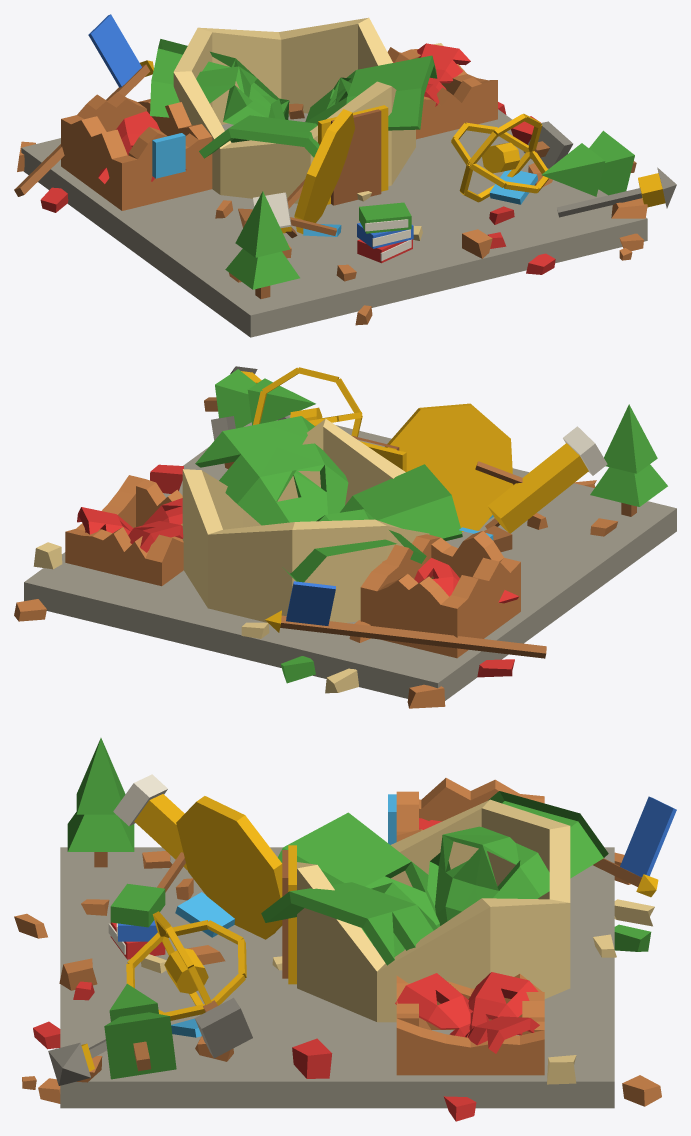
The model's file is observatory_t3_v2_dmg2.glb.
3 renders of one model, top to bottom at view 1: azimuth 30°, elevation 25°; view 2: azimuth 150°, elevation 25°; view 3: azimuth 270°, elevation 25°, orthographic. The views are drawn at different scales.
Visible parts, largest first — view 1: observatory_t3_v2_dmg2; view 2: observatory_t3_v2_dmg2; view 3: observatory_t3_v2_dmg2.
Part boxes in pixels (x1,y1,x2,y2): observatory_t3_v2_dmg2: [14, 14, 676, 337]; observatory_t3_v2_dmg2: [14, 366, 676, 708]; observatory_t3_v2_dmg2: [14, 738, 676, 1121].
Bounding box in the file's own units: 0.9121 × 0.2373 × 0.8969.
1 material, 1 textured.
